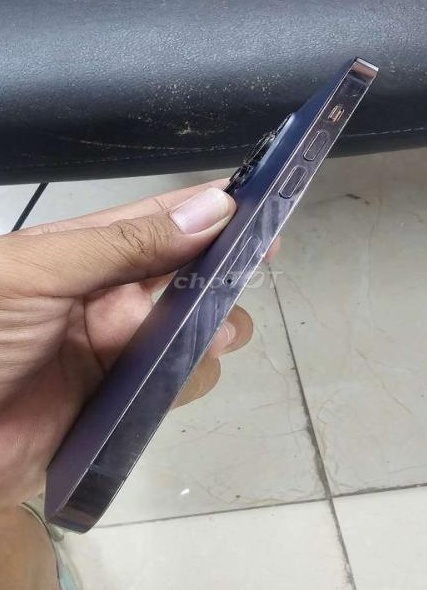scratch: (296, 123, 342, 175), (48, 465, 91, 520), (332, 73, 365, 104), (122, 415, 147, 448)
